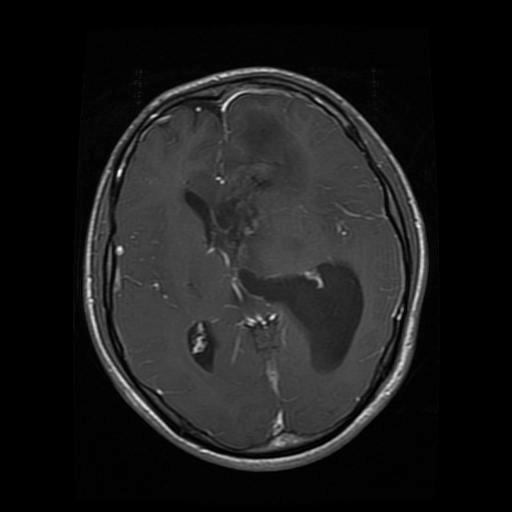Tumour-Glioma: (231, 259, 382, 382)
